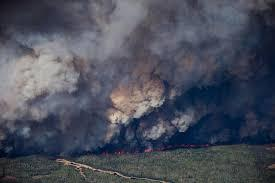smoke: (3, 1, 275, 157)
